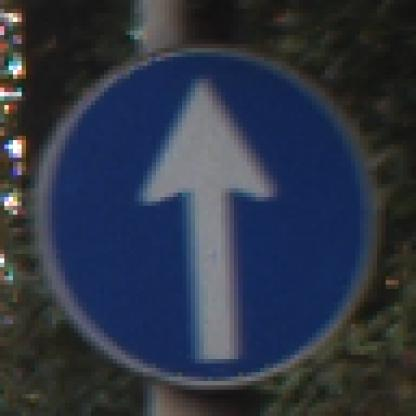AheadOnly: (36, 36, 378, 382)
